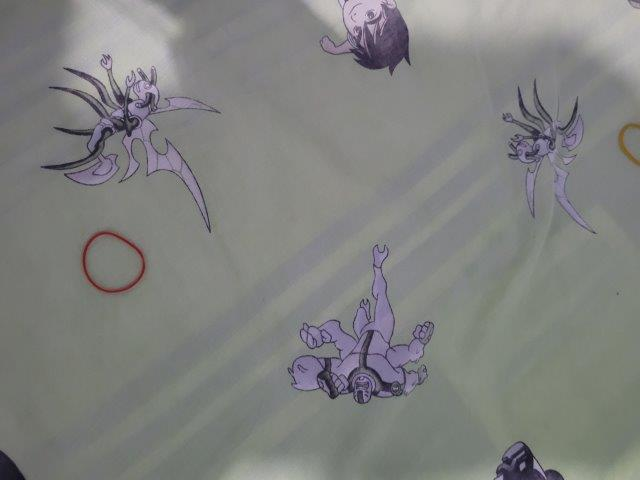karet: (81, 231, 147, 294), (618, 121, 640, 169)
